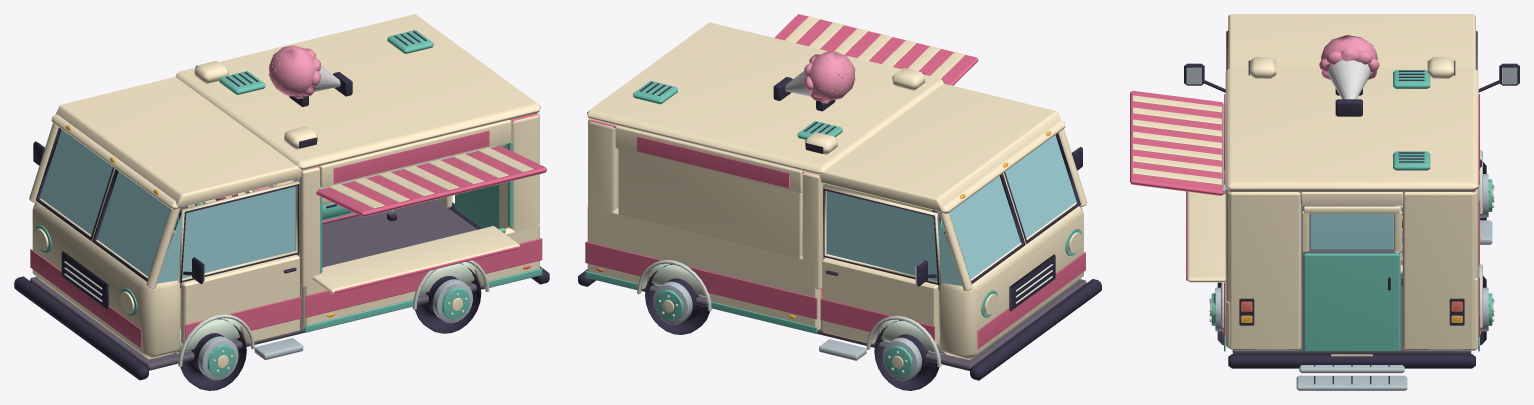
File: Ice_cream_truck.fbx
The picture shows the model from 3 angles, left to right: view 1: azimuth 30°, elevation 25°; view 2: azimuth 150°, elevation 25°; view 3: azimuth 270°, elevation 25°; orthographic projection. The views are drawn at different scales.
Parts seen in each view (by area): view 1: Toon_Ice_cream_truck BodyShell_ROOT_Mesh.001, Toon_Ice_cream_truck Roof_ROOT_Mesh.001, Toon_Ice_cream_truck DriverDoor_HINGE_Mesh.001, Toon_Ice_cream_truck Chassis_ROOT_Mesh.001, Toon_Ice_cream_truck ServingHatch_HINGE_Mesh.001, Toon_Ice_cream_truck ServiceLedge_ROOT_Mesh.001, Toon_Ice_cream_truck FrontLeft_Wheel_AXLE_Mesh.001, Toon_Ice_cream_truck RearLeft_Wheel_AXLE_Mesh.001, Toon_Ice_cream_truck RoofSign_IceCreamScoop_Mesh.001, Toon_Ice_cream_truck RearEntryDoor_HINGE_Mesh.001, Toon_Ice_cream_truck IceCreamTruck_ROOT_Mesh.003, Toon_Ice_cream_truck PrepCounter_ROOT_Mesh.002 (+1 smaller); view 2: Toon_Ice_cream_truck BodyShell_ROOT_Mesh.001, Toon_Ice_cream_truck Roof_ROOT_Mesh.001, Toon_Ice_cream_truck PassengerDoor_HINGE_Mesh.001, Toon_Ice_cream_truck ServingHatch_HINGE_Mesh.001, Toon_Ice_cream_truck Chassis_ROOT_Mesh.001, Toon_Ice_cream_truck RearRight_Wheel_AXLE_Mesh.001, Toon_Ice_cream_truck FrontRight_Wheel_AXLE_Mesh.001, Toon_Ice_cream_truck RoofSign_IceCreamScoop_Mesh.001, Toon_Ice_cream_truck IceCreamTruck_ROOT_Mesh.003; view 3: Toon_Ice_cream_truck BodyShell_ROOT_Mesh.001, Toon_Ice_cream_truck Roof_ROOT_Mesh.001, Toon_Ice_cream_truck RearEntryDoor_HINGE_Mesh.001, Toon_Ice_cream_truck ServingHatch_HINGE_Mesh.001, Toon_Ice_cream_truck ServiceLedge_ROOT_Mesh.001, Toon_Ice_cream_truck IceCreamTruck_ROOT_Mesh.005, Toon_Ice_cream_truck Chassis_ROOT_Mesh.001, Toon_Ice_cream_truck RoofSign_IceCreamScoop_Mesh.001, Toon_Ice_cream_truck IceCreamTruck_ROOT_Mesh.003, Toon_Ice_cream_truck RoofSign_FinishedCone_ROOT_Mesh.001, Toon_Ice_cream_truck RearRight_Wheel_AXLE_Mesh.001, Toon_Ice_cream_truck RearLeft_Wheel_AXLE_Mesh.001 (+1 smaller).
Part boxes in pixels (left/top/right/bottom): Toon_Ice_cream_truck BodyShell_ROOT_Mesh.001: left=14, top=77, right=549, bottom=380; Toon_Ice_cream_truck Roof_ROOT_Mesh.001: left=175, top=14, right=540, bottom=173; Toon_Ice_cream_truck DriverDoor_HINGE_Mesh.001: left=177, top=181, right=301, bottom=343; Toon_Ice_cream_truck Chassis_ROOT_Mesh.001: left=30, top=199, right=484, bottom=370; Toon_Ice_cream_truck ServingHatch_HINGE_Mesh.001: left=316, top=145, right=546, bottom=216; Toon_Ice_cream_truck ServiceLedge_ROOT_Mesh.001: left=312, top=226, right=519, bottom=293; Toon_Ice_cream_truck FrontLeft_Wheel_AXLE_Mesh.001: left=180, top=318, right=246, bottom=390; Toon_Ice_cream_truck RearLeft_Wheel_AXLE_Mesh.001: left=415, top=263, right=481, bottom=333; Toon_Ice_cream_truck RoofSign_IceCreamScoop_Mesh.001: left=268, top=45, right=320, bottom=98; Toon_Ice_cream_truck RearEntryDoor_HINGE_Mesh.001: left=455, top=184, right=499, bottom=228; Toon_Ice_cream_truck IceCreamTruck_ROOT_Mesh.003: left=33, top=141, right=303, bottom=360; Toon_Ice_cream_truck PrepCounter_ROOT_Mesh.002: left=245, top=184, right=396, bottom=224; Toon_Ice_cream_truck BodyShell_ROOT_Mesh.001: left=578, top=83, right=1101, bottom=380; Toon_Ice_cream_truck Roof_ROOT_Mesh.001: left=587, top=22, right=943, bottom=177; Toon_Ice_cream_truck PassengerDoor_HINGE_Mesh.001: left=820, top=186, right=942, bottom=344; Toon_Ice_cream_truck ServingHatch_HINGE_Mesh.001: left=774, top=14, right=978, bottom=85; Toon_Ice_cream_truck Chassis_ROOT_Mesh.001: left=641, top=264, right=1086, bottom=370; Toon_Ice_cream_truck RearRight_Wheel_AXLE_Mesh.001: left=645, top=264, right=709, bottom=334; Toon_Ice_cream_truck FrontRight_Wheel_AXLE_Mesh.001: left=874, top=320, right=940, bottom=390; Toon_Ice_cream_truck RoofSign_IceCreamScoop_Mesh.001: left=804, top=51, right=855, bottom=103; Toon_Ice_cream_truck IceCreamTruck_ROOT_Mesh.003: left=819, top=146, right=1082, bottom=360; Toon_Ice_cream_truck BodyShell_ROOT_Mesh.001: left=1221, top=14, right=1482, bottom=368; Toon_Ice_cream_truck Roof_ROOT_Mesh.001: left=1225, top=57, right=1478, bottom=192; Toon_Ice_cream_truck RearEntryDoor_HINGE_Mesh.001: left=1302, top=206, right=1401, bottom=351; Toon_Ice_cream_truck ServingHatch_HINGE_Mesh.001: left=1130, top=90, right=1225, bottom=195; Toon_Ice_cream_truck ServiceLedge_ROOT_Mesh.001: left=1186, top=191, right=1225, bottom=282; Toon_Ice_cream_truck IceCreamTruck_ROOT_Mesh.005: left=1296, top=364, right=1407, bottom=390; Toon_Ice_cream_truck Chassis_ROOT_Mesh.001: left=1232, top=205, right=1471, bottom=353; Toon_Ice_cream_truck RoofSign_IceCreamScoop_Mesh.001: left=1319, top=35, right=1379, bottom=79; Toon_Ice_cream_truck IceCreamTruck_ROOT_Mesh.003: left=1184, top=63, right=1519, bottom=244; Toon_Ice_cream_truck RoofSign_FinishedCone_ROOT_Mesh.001: left=1327, top=60, right=1371, bottom=99; Toon_Ice_cream_truck RearRight_Wheel_AXLE_Mesh.001: left=1480, top=276, right=1494, bottom=345; Toon_Ice_cream_truck RearLeft_Wheel_AXLE_Mesh.001: left=1209, top=282, right=1223, bottom=345.
Bounding box in the file's own units: 782 × 452 × 613.
